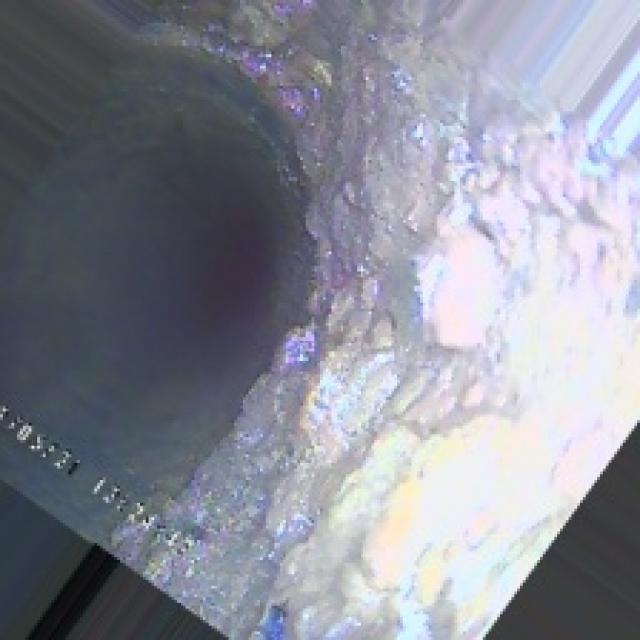encrustation: (317, 103, 574, 531)
